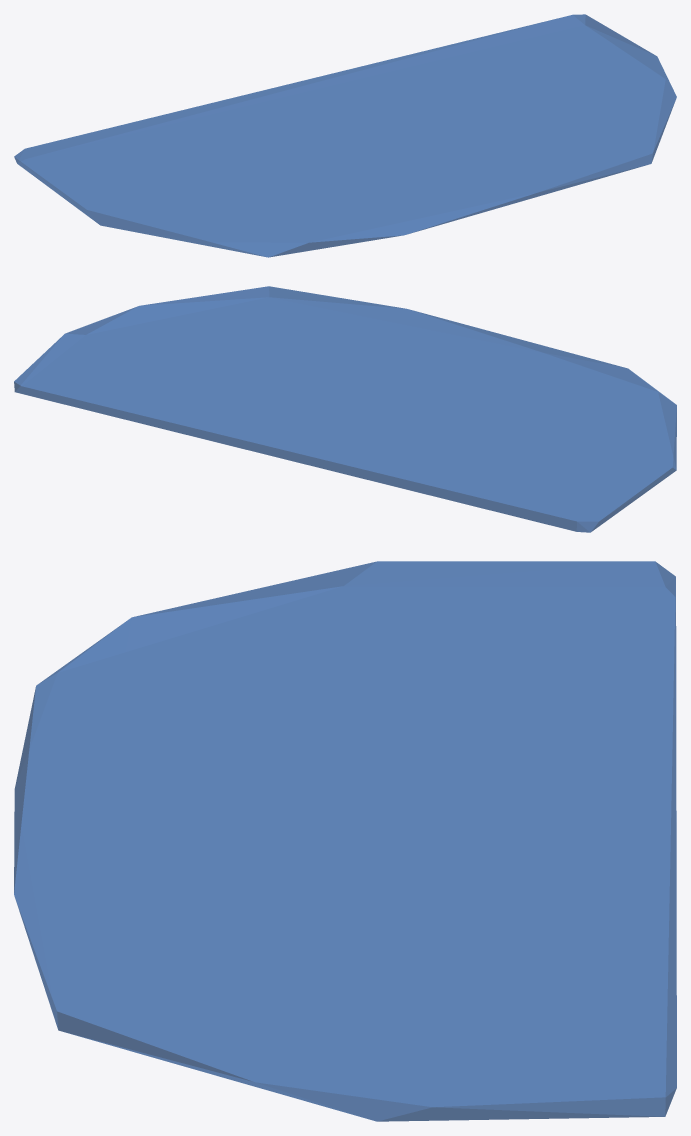
The picture shows the model from 3 angles, top to bottom: view 1: azimuth 30°, elevation 25°; view 2: azimuth 150°, elevation 25°; view 3: azimuth 270°, elevation 25°; orthographic projection. The views are drawn at different scales.
Visible parts, largest first — view 1: Shape_IndexedFaceSet.185_Shape_IndexedFaceSet.9232; view 2: Shape_IndexedFaceSet.185_Shape_IndexedFaceSet.9232; view 3: Shape_IndexedFaceSet.185_Shape_IndexedFaceSet.9232.
Part boxes in pixels (bbox=[...]): Shape_IndexedFaceSet.185_Shape_IndexedFaceSet.9232: bbox=[14, 14, 676, 257]; Shape_IndexedFaceSet.185_Shape_IndexedFaceSet.9232: bbox=[14, 286, 676, 532]; Shape_IndexedFaceSet.185_Shape_IndexedFaceSet.9232: bbox=[14, 561, 676, 1121].
Size of the model in its own units: 0.7421 by 0.0128 by 0.3808.
